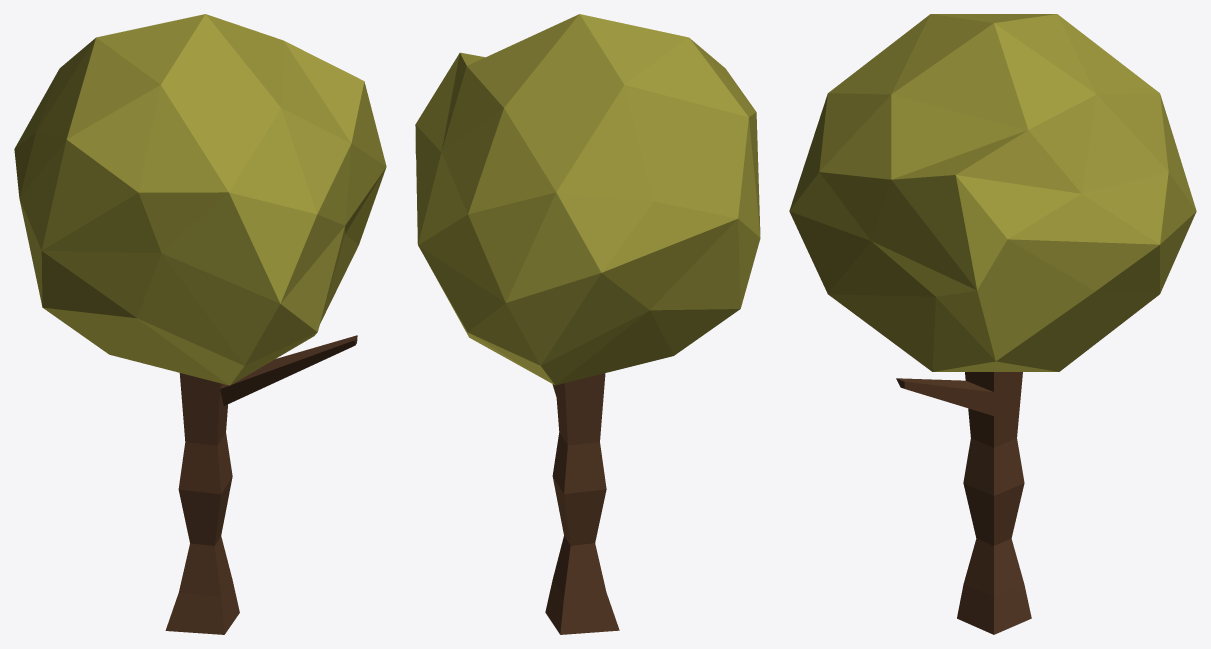
Rendered from Tree_39_Yellow.fbx.
The picture shows the model from 3 angles, left to right: view 1: azimuth 30°, elevation 25°; view 2: azimuth 150°, elevation 25°; view 3: azimuth 270°, elevation 25°; orthographic projection.
Visible parts, largest first — view 1: Tree_39_Yellow_Part_1, Tree_39_Yellow_Part_2, Tree_39_Yellow_Part_3; view 2: Tree_39_Yellow_Part_1, Tree_39_Yellow_Part_2; view 3: Tree_39_Yellow_Part_1, Tree_39_Yellow_Part_2, Tree_39_Yellow_Part_3.
Part boxes in pixels (left/top/right/bottom): Tree_39_Yellow_Part_1: left=14, top=14, right=386, bottom=385; Tree_39_Yellow_Part_2: left=165, top=373, right=239, bottom=634; Tree_39_Yellow_Part_3: left=220, top=335, right=357, bottom=405; Tree_39_Yellow_Part_1: left=415, top=14, right=760, bottom=385; Tree_39_Yellow_Part_2: left=545, top=373, right=619, bottom=634; Tree_39_Yellow_Part_1: left=789, top=14, right=1196, bottom=371; Tree_39_Yellow_Part_2: left=957, top=372, right=1031, bottom=634; Tree_39_Yellow_Part_3: left=896, top=378, right=993, bottom=415.
Bounding box in the file's own units: 474 × 798 × 495.
